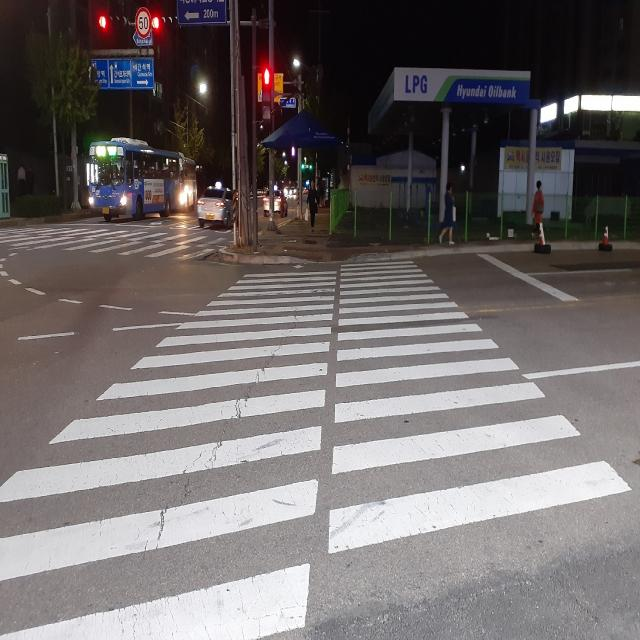빨간불: (261, 65, 273, 121)
횡단보도: (0, 259, 633, 639), (0, 216, 219, 258)
